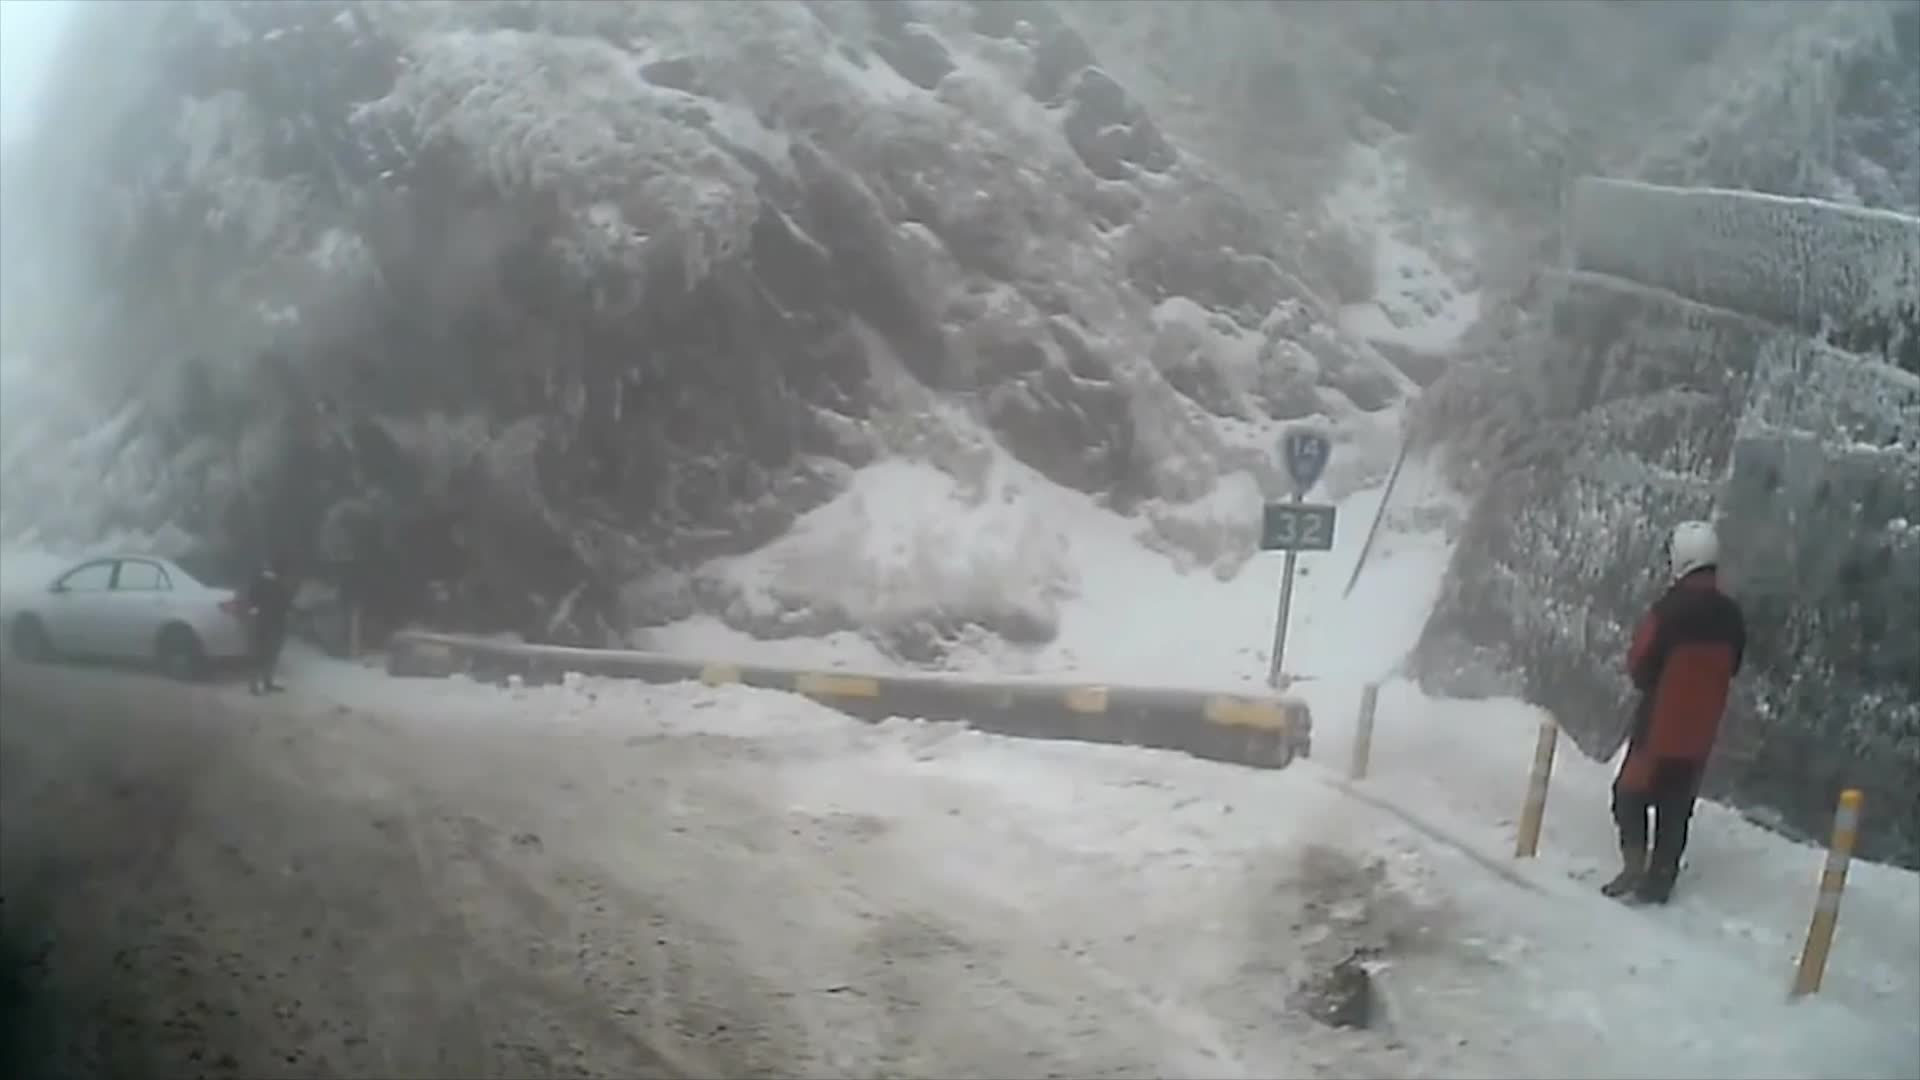pedestrian: (1598, 521, 1746, 907), (238, 567, 290, 699)
vehicle: (0, 550, 262, 681)
